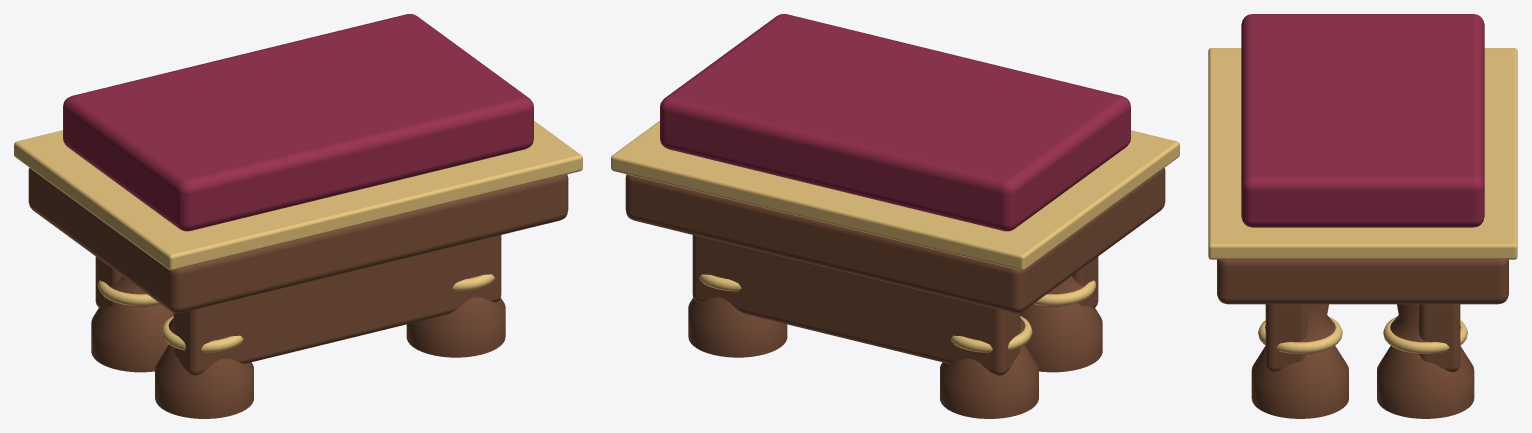
Rendered from royal-court-and-throne-palace-royal-footstool-b9d211ad__29383.glb.
The picture shows the model from 3 angles, left to right: view 1: azimuth 30°, elevation 25°; view 2: azimuth 150°, elevation 25°; view 3: azimuth 270°, elevation 25°; orthographic projection.
Visible parts, largest first — view 1: royal-footstool; view 2: royal-footstool; view 3: royal-footstool.
Part boxes in pixels (left/top/right/bottom): royal-footstool: left=14, top=14, right=582, bottom=418; royal-footstool: left=611, top=14, right=1179, bottom=418; royal-footstool: left=1208, top=14, right=1517, bottom=418.
Size of the model in its own units: 0.675 by 0.385 by 0.445.
